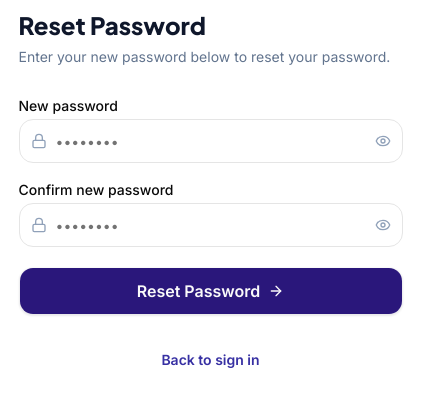
ResetPasswordForm › Client-side validation › shows an error when the confirm password is empty
This screenshot has width=423, height=407.
Type "Password123!" into the password field named "newPassword".
click(210, 141); type("Password123!")  # box 18,119 -> 402,163
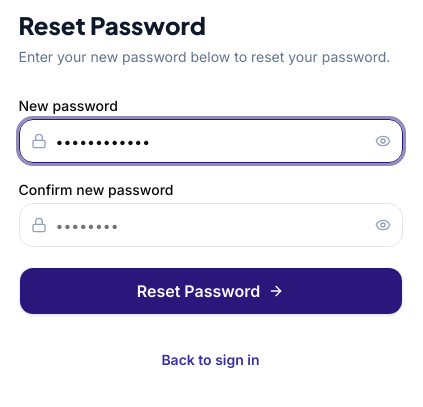
Click the button "Reset Password".
click(210, 291)  # box 18,267 -> 402,315
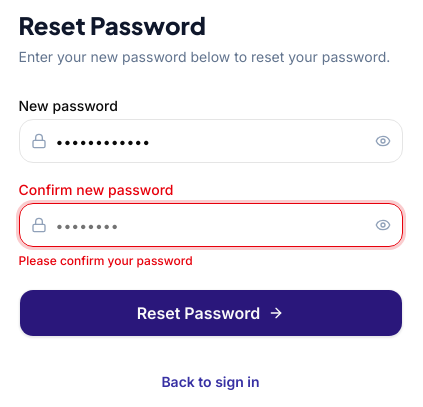
Expected: the text "Please confirm your password" is shown, 18,253 -> 193,268
